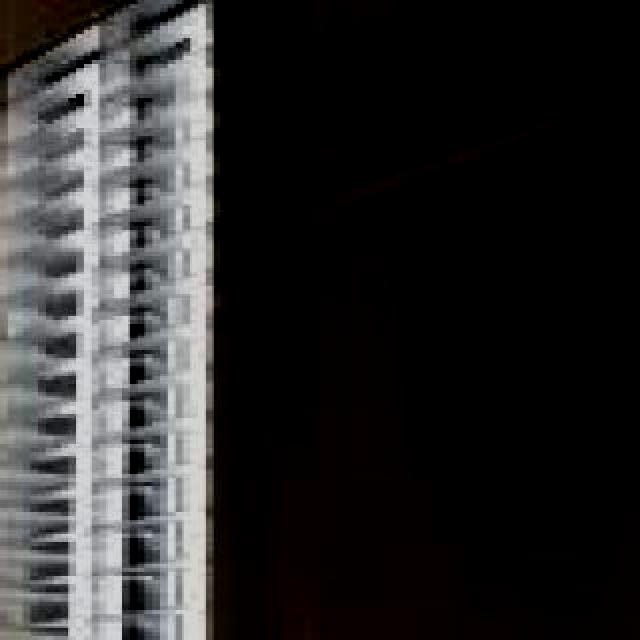fluorescent tube: (30, 20, 150, 640), (140, 12, 228, 640)
